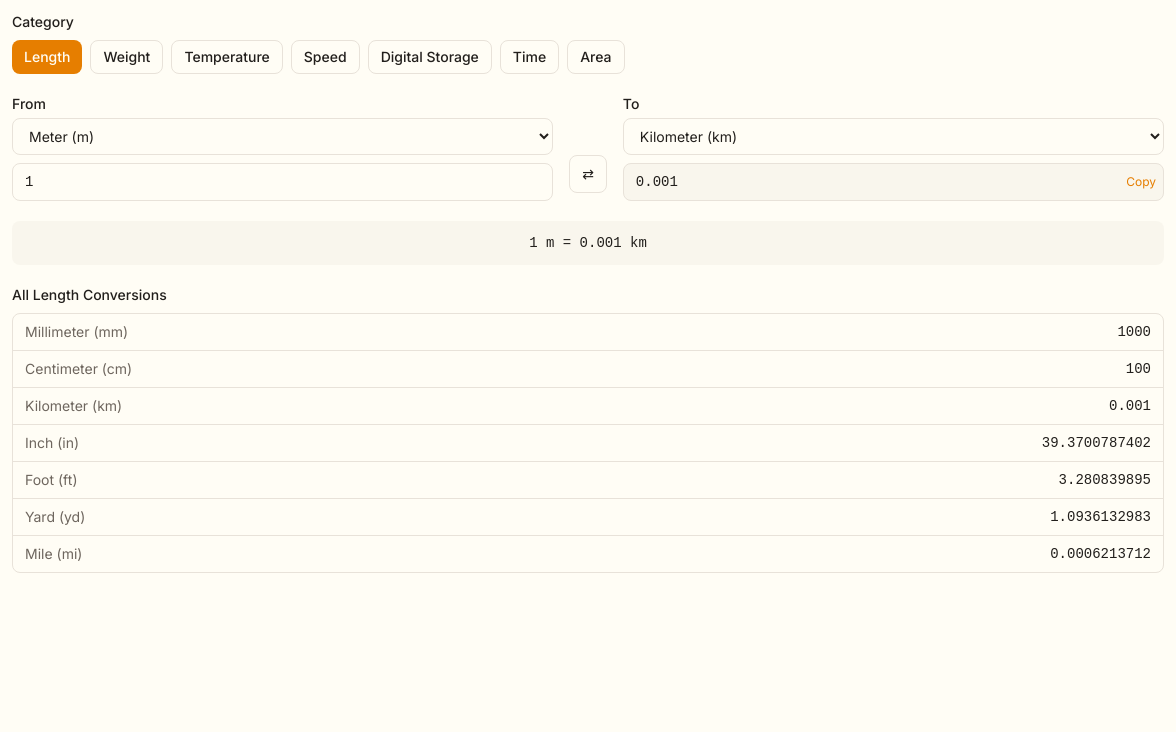
Test case: UnitConverter › changes input value and recalculates
Replace the text in the number field named "Value to convert" with "1000" at coordinates (283, 182), box x1=12 y1=163 x2=553 y2=201
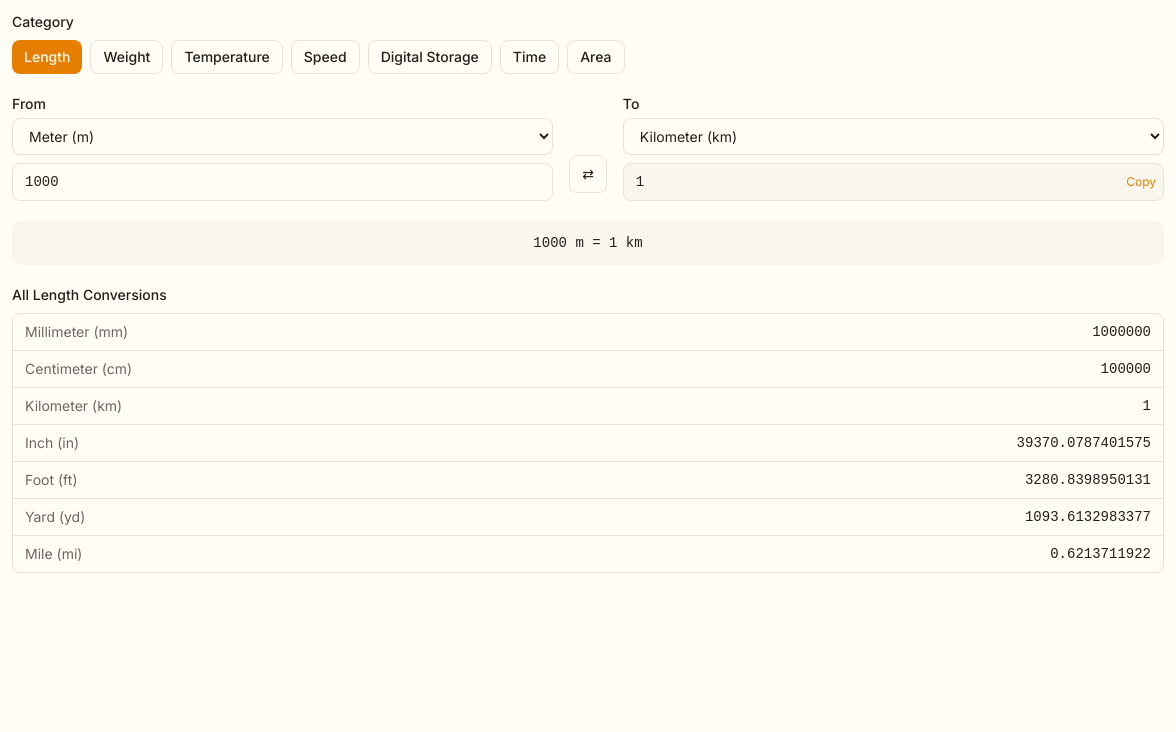
Check: the field named "Conversion result" holds "1", box x1=623 y1=163 x2=1164 y2=201
